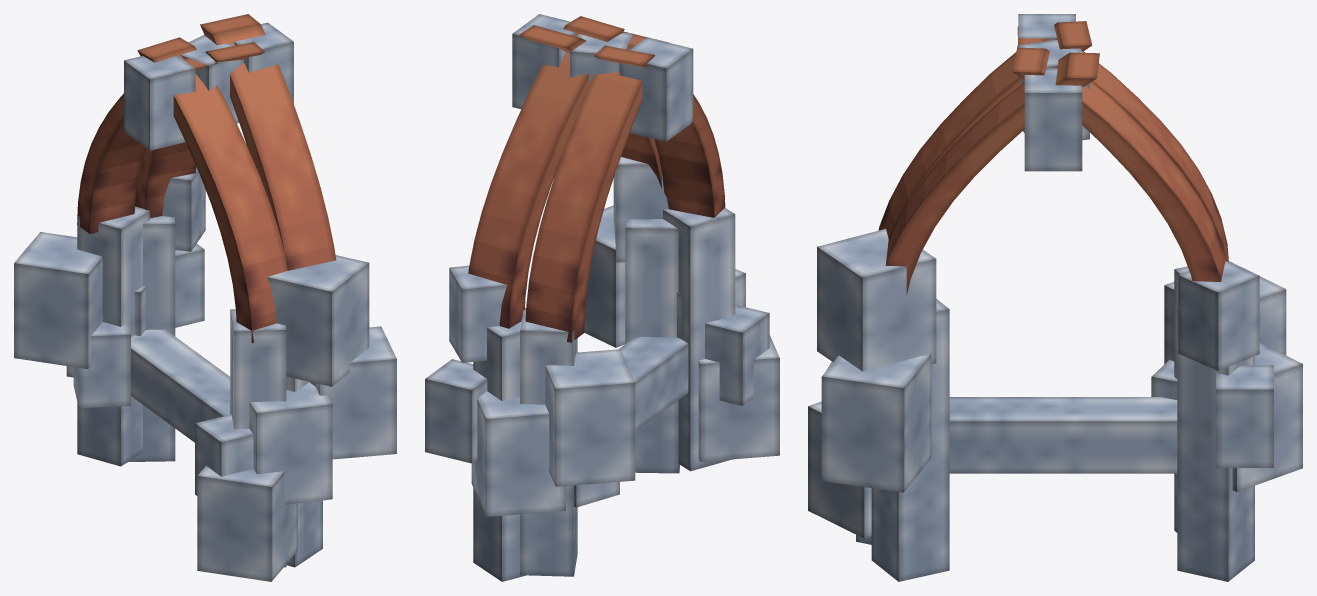
Rendered from rune_gate.fbx.
3 renders of one model, left to right at view 1: azimuth 30°, elevation 25°; view 2: azimuth 150°, elevation 25°; view 3: azimuth 270°, elevation 25°, orthographic. The views are drawn at different scales.
Visible parts, largest first — view 1: Cube.093; view 2: Cube.093; view 3: Cube.093.
Boxes of the visible parts, <box> form: Cube.093: <box>14,14,396,581</box>; Cube.093: <box>425,14,779,581</box>; Cube.093: <box>808,14,1302,581</box>.
Size of the model in its own units: 193 by 392 by 343.
